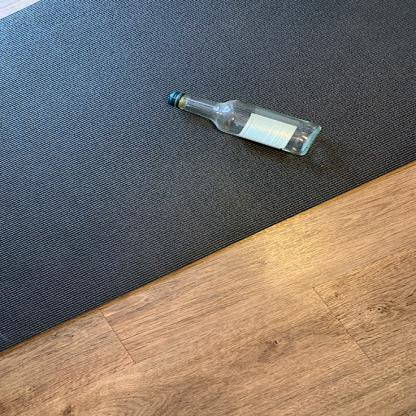trash: (165, 92, 325, 158)
